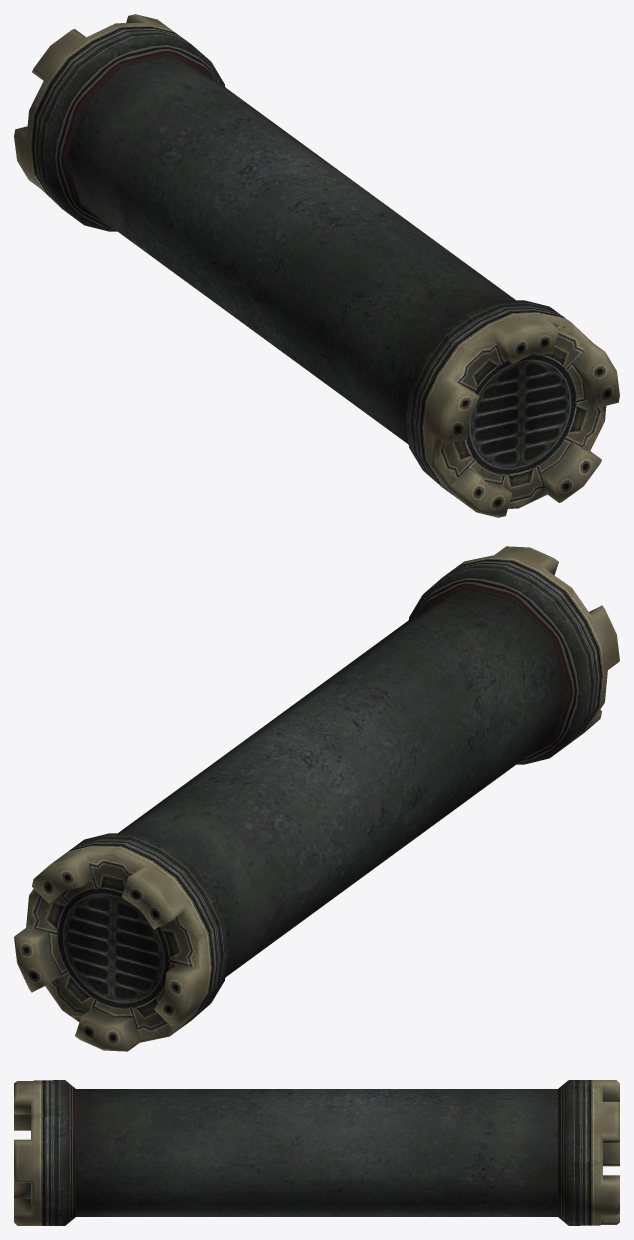
Rendered from tech_long.dae.
3 views of the same model, one above another, from view 1: azimuth 30°, elevation 25°; view 2: azimuth 150°, elevation 25°; view 3: azimuth 270°, elevation 25° (orthographic). The views are drawn at different scales.
Parts seen in each view (by area): view 1: polySurface779; view 2: polySurface779; view 3: polySurface779.
Part boxes in pixels (box(x1,y1,x2,y2)): polySurface779: box(14, 14, 619, 517); polySurface779: box(14, 546, 619, 1051); polySurface779: box(14, 1080, 619, 1225).
Size of the model in its own units: 0.4984 by 0.5035 by 2.06.
1 material, 1 textured.
